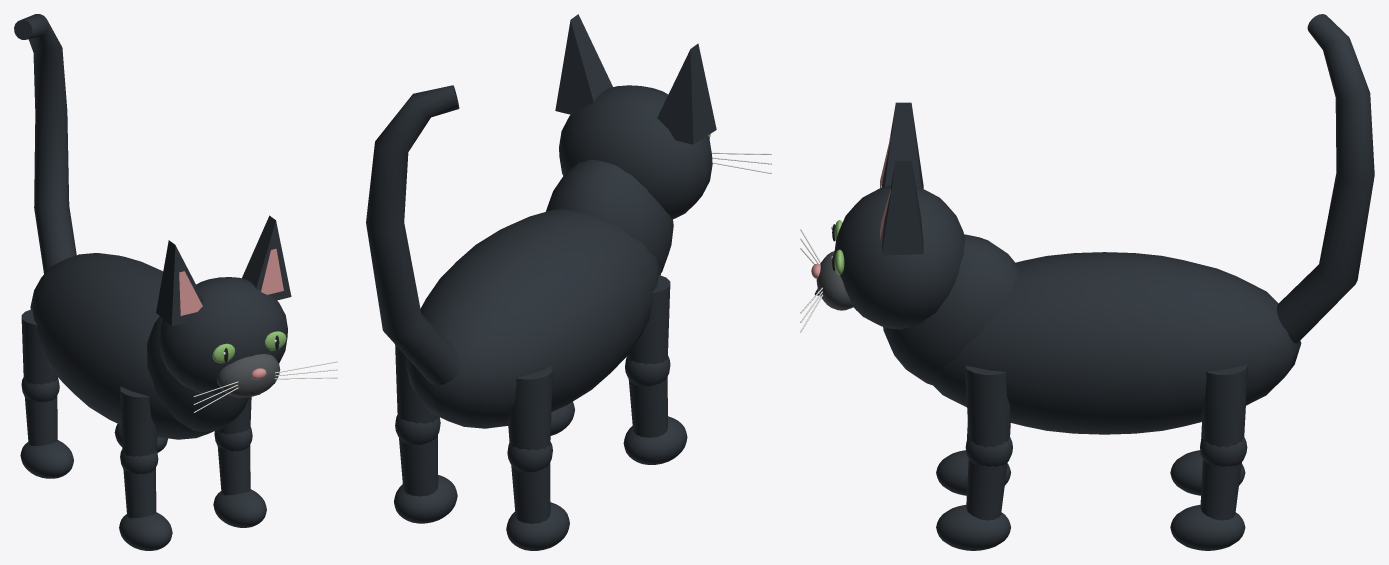
Rendered from animal_cat_black_standing.glb.
3 renders of one model, left to right at view 1: azimuth 30°, elevation 25°; view 2: azimuth 150°, elevation 25°; view 3: azimuth 270°, elevation 25°, orthographic. The views are drawn at different scales.
Visible parts, largest first — view 1: BlackCat_Long_Body, BlackCat_Head, BlackCat_Attached_Raised_Tail, BlackCat_Chest_And_Neck, BlackCat_Standing_Leg, BlackCat_Standing_Leg.001, BlackCat_Standing_Leg.002, BlackCat_Muzzle, BlackCat_Pointed_Ear, BlackCat_Pointed_Ear.001, BlackCat_Grounded_Paw, BlackCat_Grounded_Paw.001 (+6 smaller); view 2: BlackCat_Long_Body, BlackCat_Attached_Raised_Tail, BlackCat_Head, BlackCat_Chest_And_Neck, BlackCat_Standing_Leg.001, BlackCat_Standing_Leg, BlackCat_Pointed_Ear, BlackCat_Standing_Leg.003, BlackCat_Pointed_Ear.001, BlackCat_Grounded_Paw.001, BlackCat_Grounded_Paw.003, BlackCat_Grounded_Paw (+4 smaller); view 3: BlackCat_Long_Body, BlackCat_Attached_Raised_Tail, BlackCat_Head, BlackCat_Chest_And_Neck, BlackCat_Standing_Leg.003, BlackCat_Standing_Leg.002, BlackCat_Pointed_Ear.001, BlackCat_Grounded_Paw.002, BlackCat_Grounded_Paw.003, BlackCat_Pointed_Ear, BlackCat_Grounded_Paw.001, BlackCat_Grounded_Paw (+3 smaller).
Boxes of the visible parts, <box> form: BlackCat_Long_Body: <box>30,253,214,439</box>; BlackCat_Head: <box>159,277,287,395</box>; BlackCat_Attached_Raised_Tail: <box>14,14,76,273</box>; BlackCat_Chest_And_Neck: <box>147,316,248,431</box>; BlackCat_Standing_Leg: <box>120,386,157,518</box>; BlackCat_Standing_Leg.001: <box>21,309,57,445</box>; BlackCat_Standing_Leg.002: <box>217,397,251,495</box>; BlackCat_Muzzle: <box>217,354,280,397</box>; BlackCat_Pointed_Ear: <box>156,240,204,325</box>; BlackCat_Pointed_Ear.001: <box>242,215,291,300</box>; BlackCat_Grounded_Paw: <box>119,512,172,550</box>; BlackCat_Grounded_Paw.001: <box>20,440,73,478</box>; BlackCat_Long_Body: <box>405,209,661,428</box>; BlackCat_Attached_Raised_Tail: <box>366,85,459,385</box>; BlackCat_Head: <box>559,85,712,219</box>; BlackCat_Chest_And_Neck: <box>546,159,673,272</box>; BlackCat_Standing_Leg.001: <box>508,366,552,523</box>; BlackCat_Standing_Leg: <box>627,275,670,437</box>; BlackCat_Pointed_Ear: <box>657,43,716,144</box>; BlackCat_Standing_Leg.003: <box>395,344,438,496</box>; BlackCat_Pointed_Ear.001: <box>555,14,612,115</box>; BlackCat_Grounded_Paw.001: <box>506,502,569,550</box>; BlackCat_Grounded_Paw.003: <box>394,475,457,523</box>; BlackCat_Grounded_Paw: <box>623,416,687,464</box>; BlackCat_Long_Body: <box>932,252,1301,434</box>; BlackCat_Attached_Raised_Tail: <box>1277,14,1374,343</box>; BlackCat_Head: <box>834,185,965,329</box>; BlackCat_Chest_And_Neck: <box>883,234,1018,385</box>; BlackCat_Standing_Leg.003: <box>1200,365,1247,520</box>; BlackCat_Standing_Leg.002: <box>965,365,1010,520</box>; BlackCat_Pointed_Ear.001: <box>882,161,923,255</box>; BlackCat_Grounded_Paw.002: <box>936,505,1010,550</box>; BlackCat_Grounded_Paw.003: <box>1170,504,1245,550</box>; BlackCat_Pointed_Ear: <box>882,102,923,188</box>; BlackCat_Grounded_Paw.001: <box>1170,450,1245,495</box>; BlackCat_Grounded_Paw: <box>936,450,1010,495</box>.
Bounding box in the file's own units: 0.2264 × 0.6216 × 0.6573.
